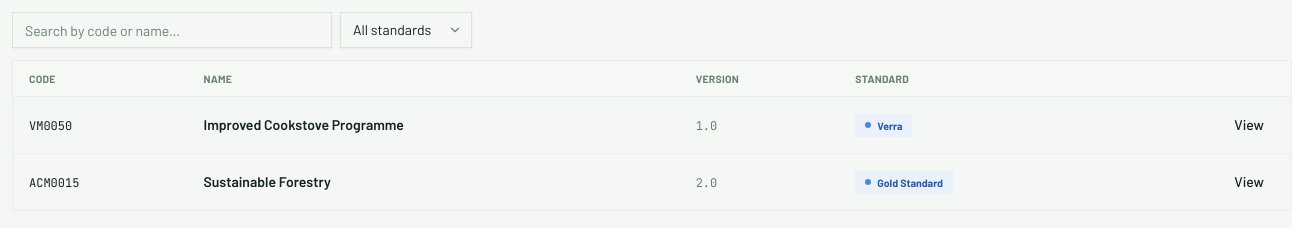
Scenario: MethodologyTable › filters by standard
Select "Gold Standard" in the dropdown showing "All standards" at coordinates (406, 30), box [340, 12, 472, 48]
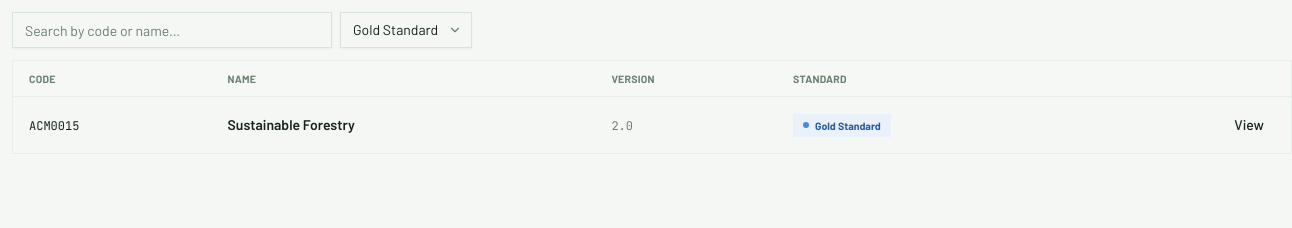
Expected: the text "Improved Cookstove Programme" is gone
Expected: the text "Sustainable Forestry" is shown, [228, 116, 355, 133]
